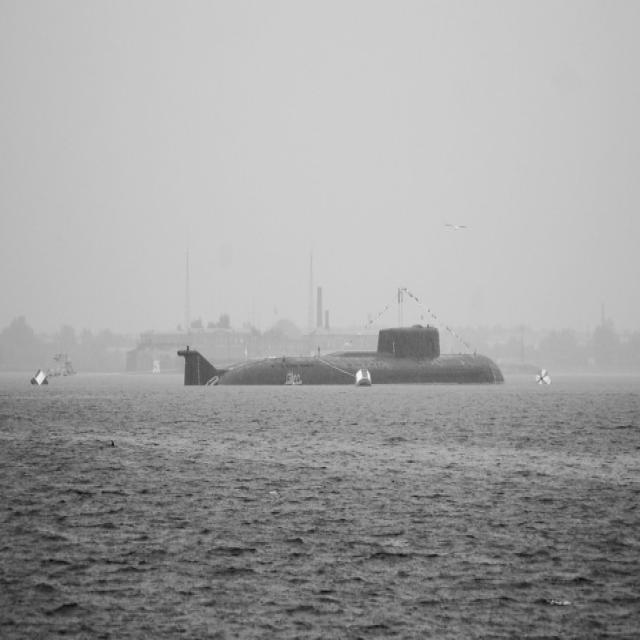submarine: (186, 312, 546, 391)
